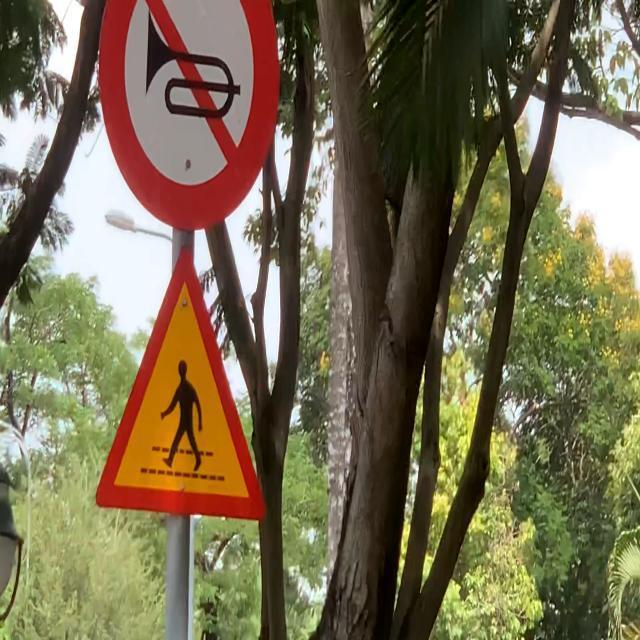224-duong-nguoi-di-bo-cat-ngang: (90, 249, 270, 526)
